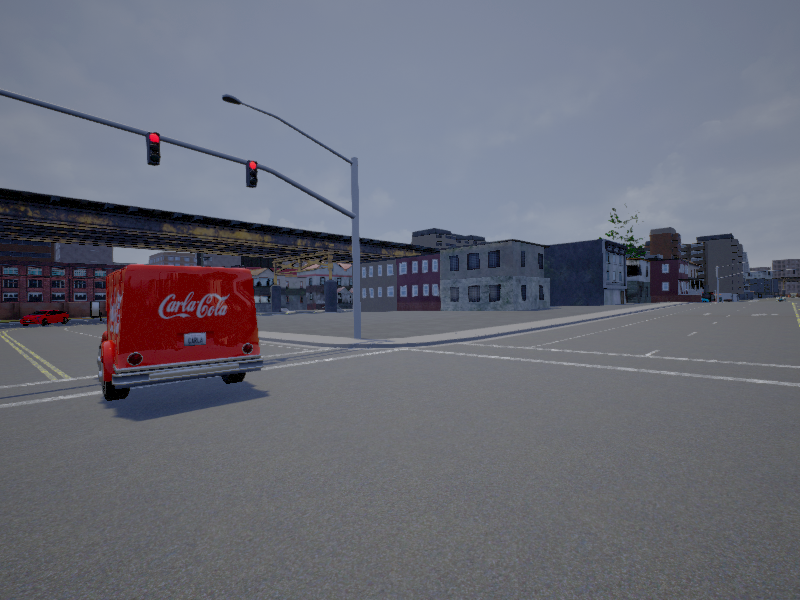Benign: (98, 265, 260, 400), (22, 308, 73, 327)
